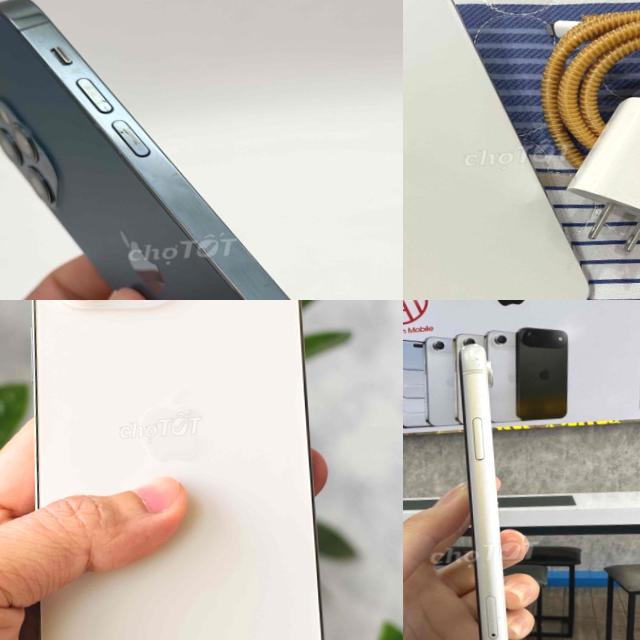gen_11: (403, 0, 604, 300)
gen_12_13: (0, 0, 403, 300)
gen_14: (0, 300, 343, 640)
gen_x_xs: (457, 345, 508, 640)
